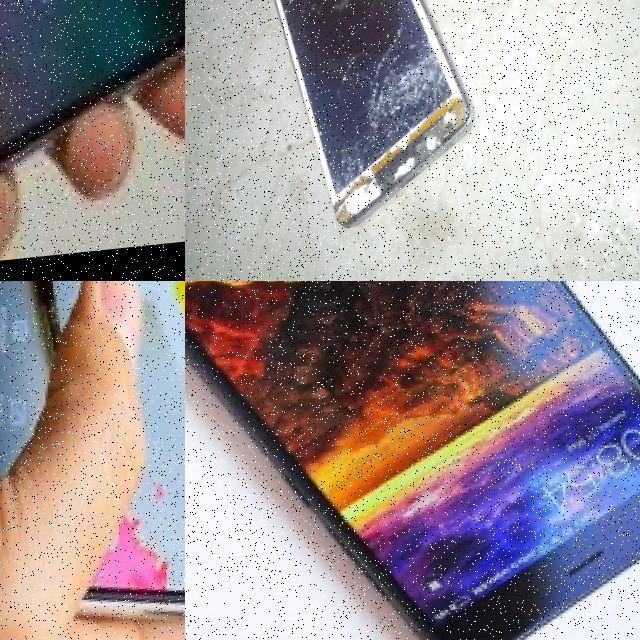screen crack: (315, 32, 468, 230), (261, 0, 378, 35)
